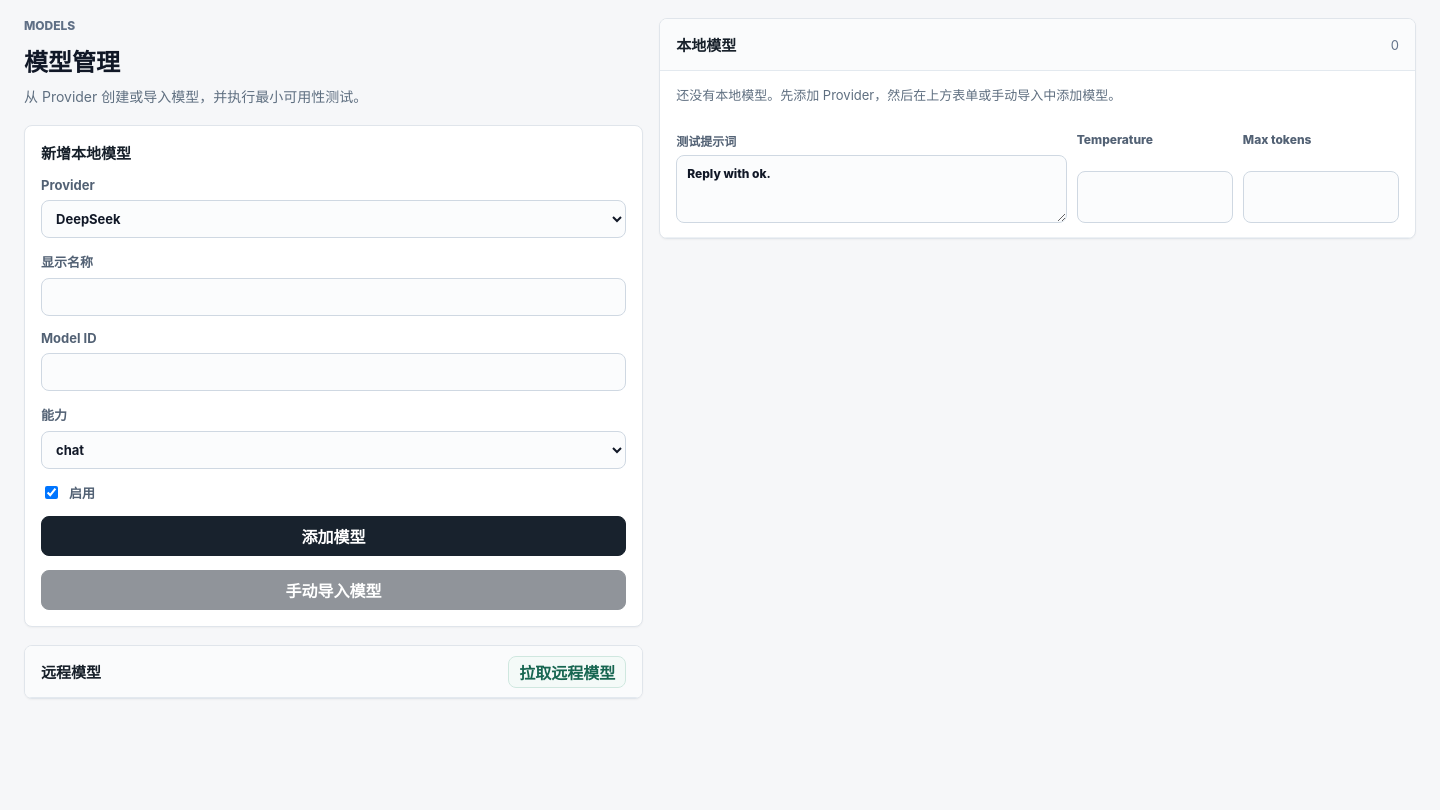
Test: ModelsPage › fetches remote models and reports the count
Click the button "拉取远程模型": (567, 672) [508,656,626,688]
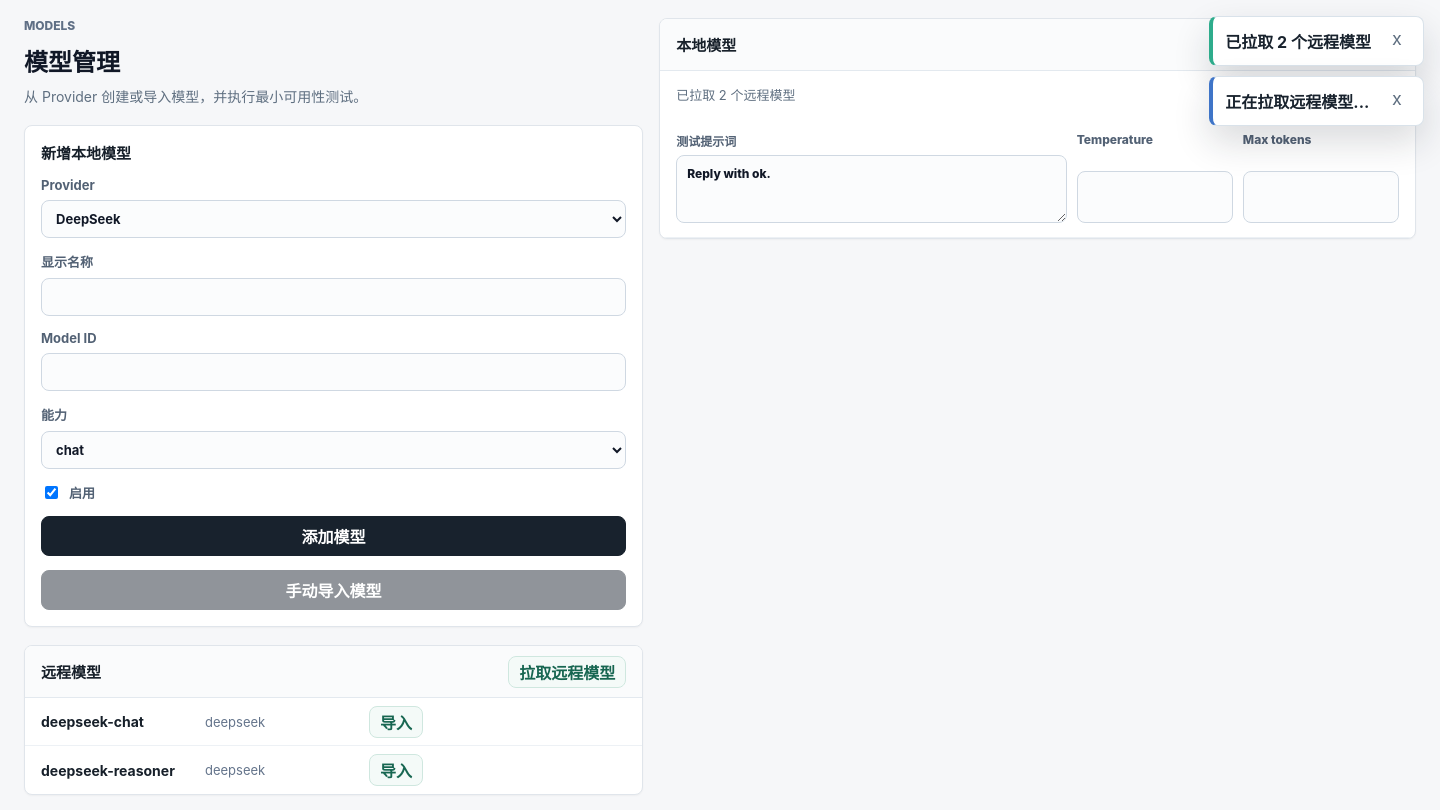
expect the text "deepseek-chat" is shown: met, box [41,714,144,730]
